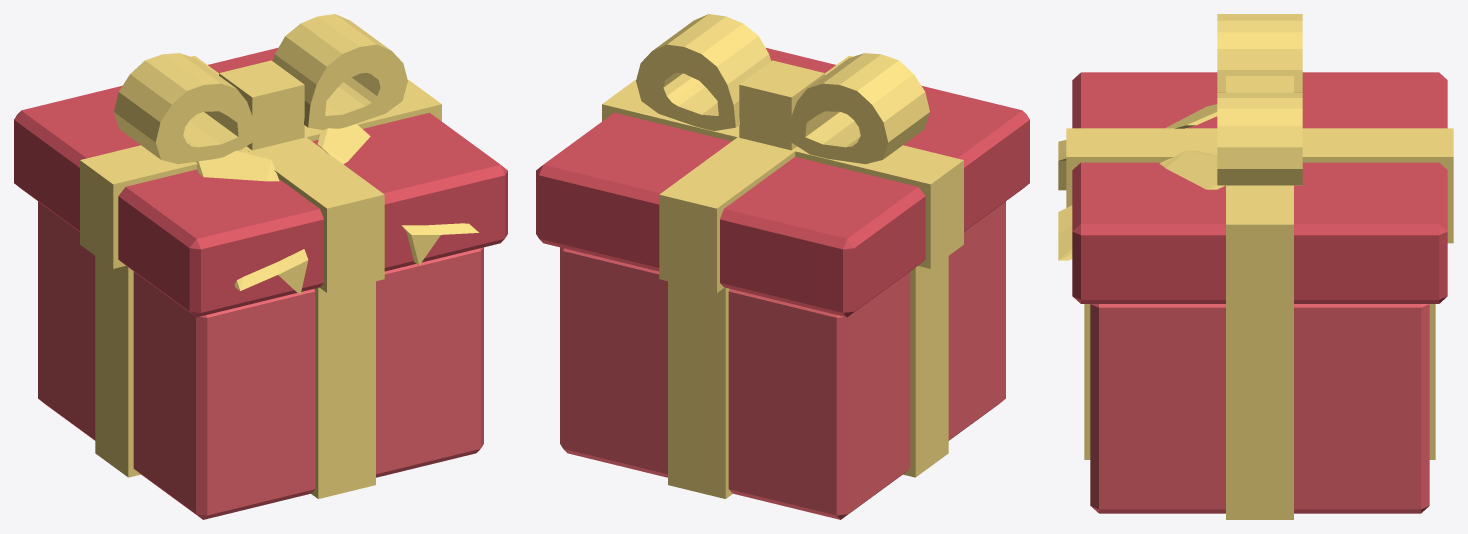
Rendered from Present.glb.
3 renders of one model, left to right at view 1: azimuth 30°, elevation 25°; view 2: azimuth 150°, elevation 25°; view 3: azimuth 270°, elevation 25°, orthographic. The views are drawn at different scales.
Parts seen in each view (by area): view 1: Box, Ribbon, Lid; view 2: Box, Ribbon, Lid; view 3: Lid, Box, Ribbon.
Part boxes in pixels (bbox=[...]): Box: bbox=[38, 201, 483, 519]; Ribbon: bbox=[80, 14, 478, 498]; Lid: bbox=[14, 48, 507, 317]; Box: bbox=[560, 201, 1005, 519]; Ribbon: bbox=[602, 14, 963, 498]; Lid: bbox=[536, 48, 1029, 317]; Lid: bbox=[1072, 72, 1447, 303]; Box: bbox=[1090, 304, 1429, 513]; Ribbon: bbox=[1058, 14, 1453, 519].
Bounding box in the file's own units: 1.14 × 1.26 × 1.17.
